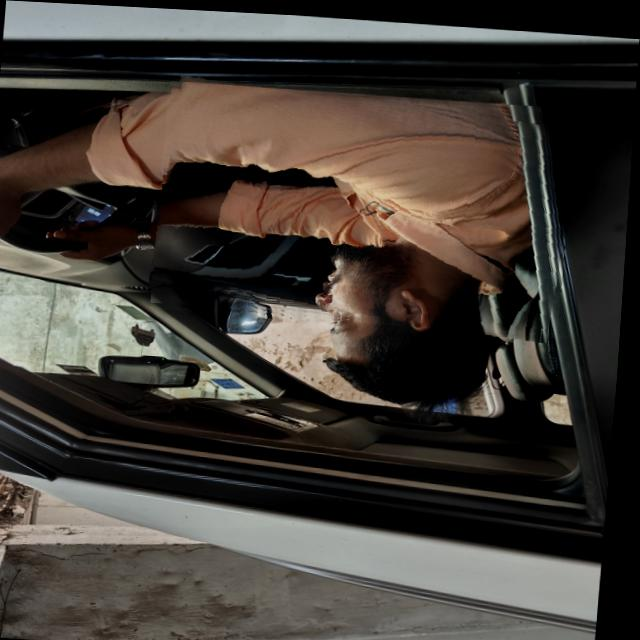no-seatbelt: (153, 78, 578, 330)
